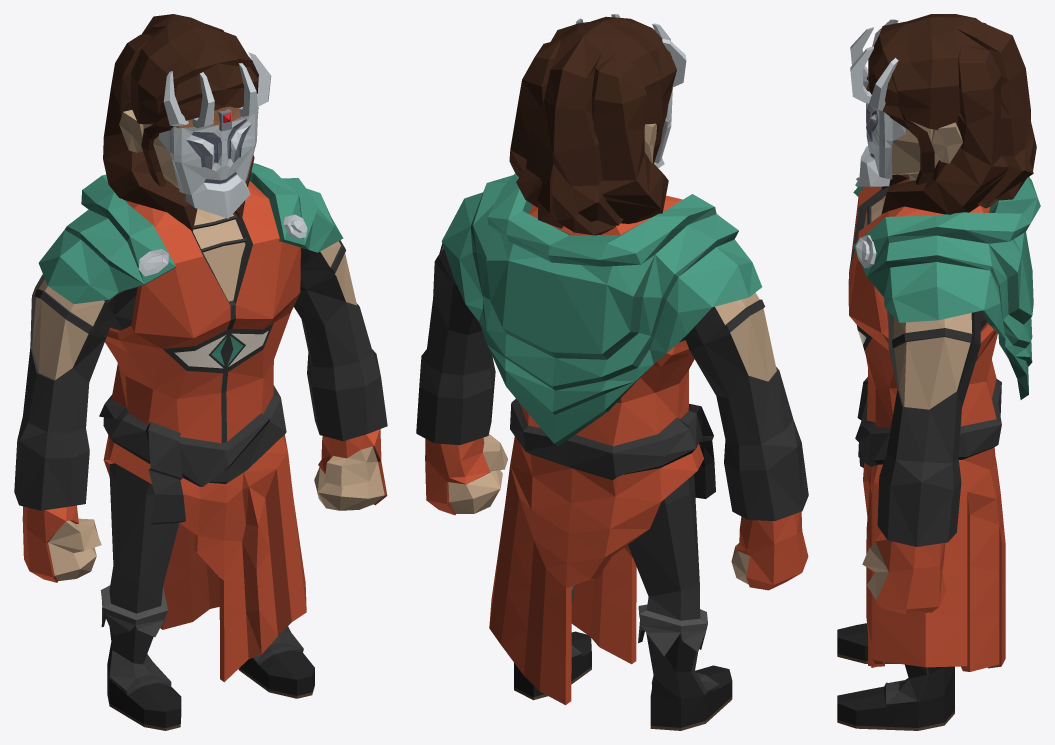
Rendered from priest_immaculate.fbx.
3 renders of one model, left to right at view 1: azimuth 30°, elevation 25°; view 2: azimuth 150°, elevation 25°; view 3: azimuth 270°, elevation 25°, orthographic. The views are drawn at different scales.
Parts seen in each view (by area): view 1: base_08_priestAzathul_tri:priestOfDusk, base_08_priestAzathul_tri:Layer2; view 2: base_08_priestAzathul_tri:priestOfDusk, base_08_priestAzathul_tri:Layer2; view 3: base_08_priestAzathul_tri:priestOfDusk, base_08_priestAzathul_tri:Layer2.
Part boxes in pixels (<box>): base_08_priestAzathul_tri:priestOfDusk: <box>14,14,387,730</box>; base_08_priestAzathul_tri:Layer2: <box>158,52,271,218</box>; base_08_priestAzathul_tri:priestOfDusk: <box>416,14,808,730</box>; base_08_priestAzathul_tri:Layer2: <box>576,18,686,168</box>; base_08_priestAzathul_tri:priestOfDusk: <box>837,14,1040,730</box>; base_08_priestAzathul_tri:Layer2: <box>859,19,905,186</box>.
Bounding box in the file's own units: 528 × 906 × 250.
